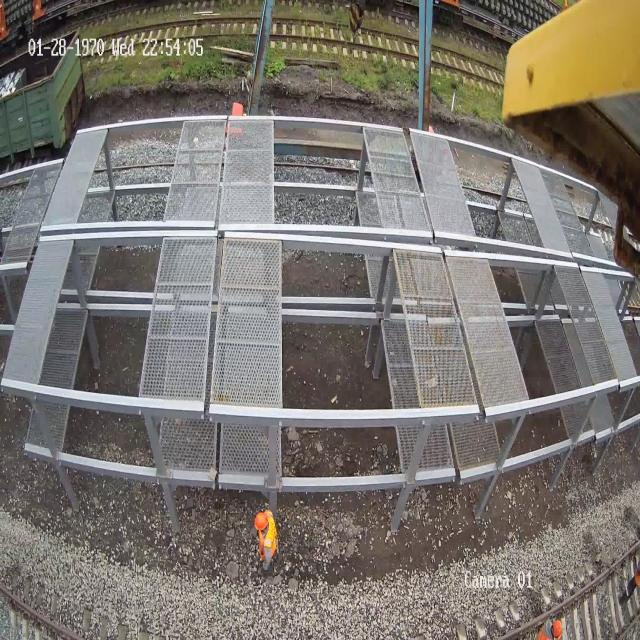Helmet: (543, 610, 567, 640), (254, 512, 267, 530)
Person: (254, 508, 278, 576), (617, 560, 640, 604)
